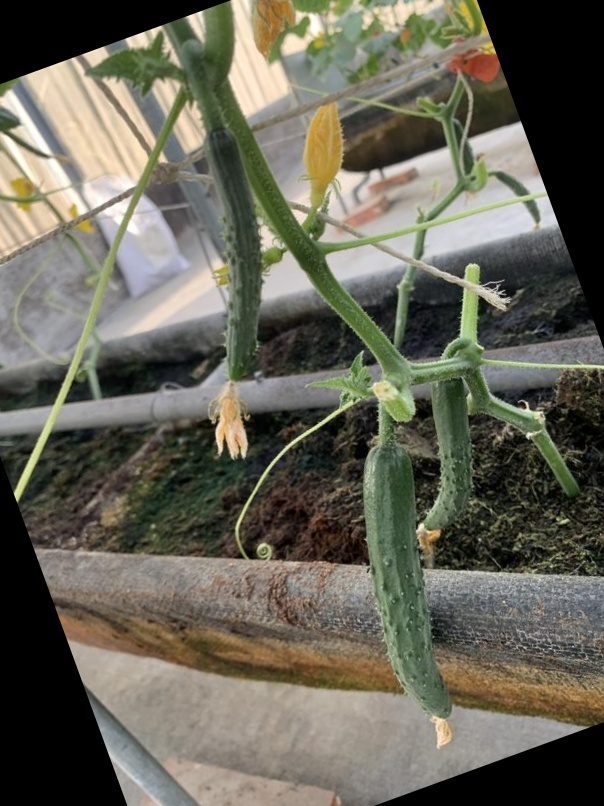bud: (304, 99, 348, 205)
growth: (200, 122, 266, 394)
mature: (356, 440, 452, 720)
